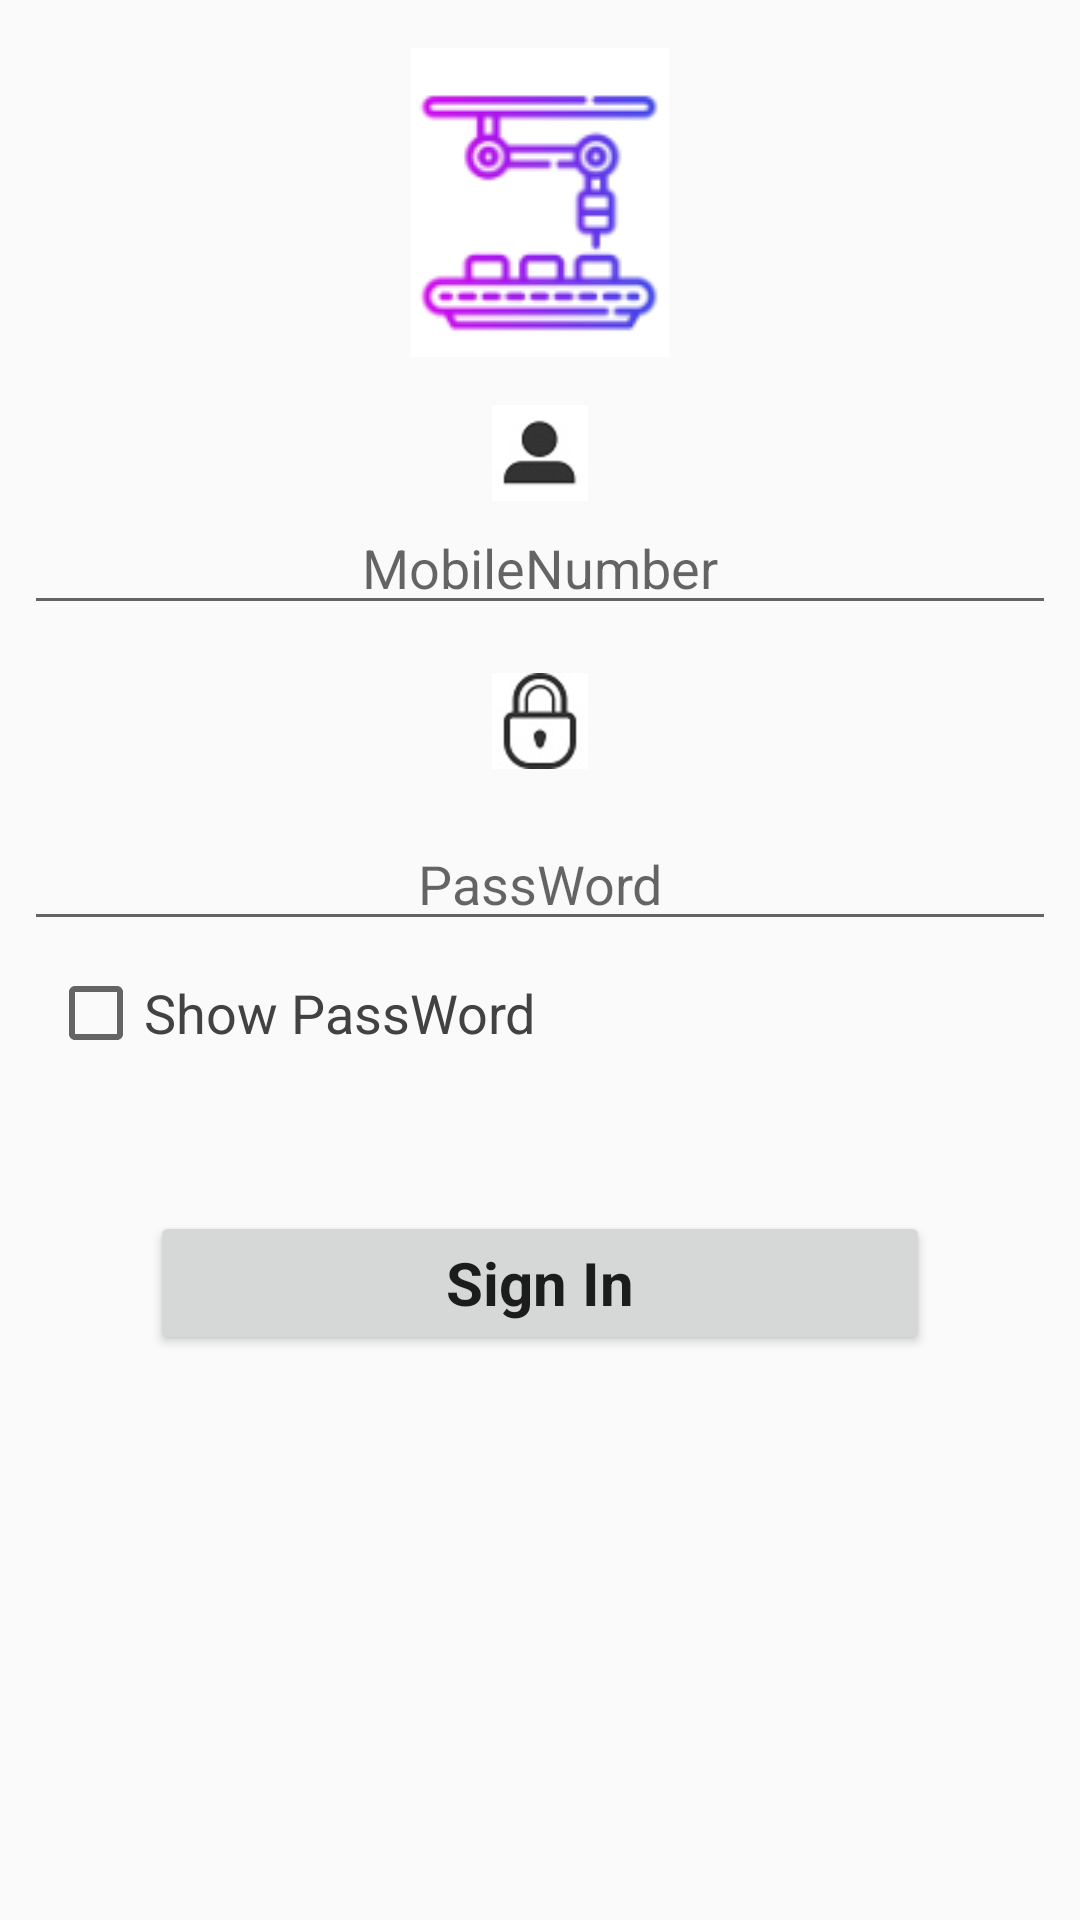

Icon click points for this 1080px x 1920px phone screenshot, format (x=x, y=y):
username: (x=540, y=452)
